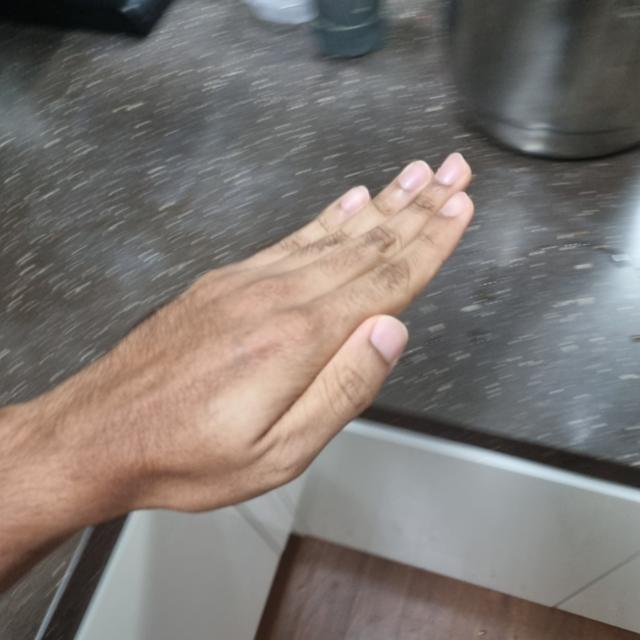Paper: (86, 159, 472, 510)
